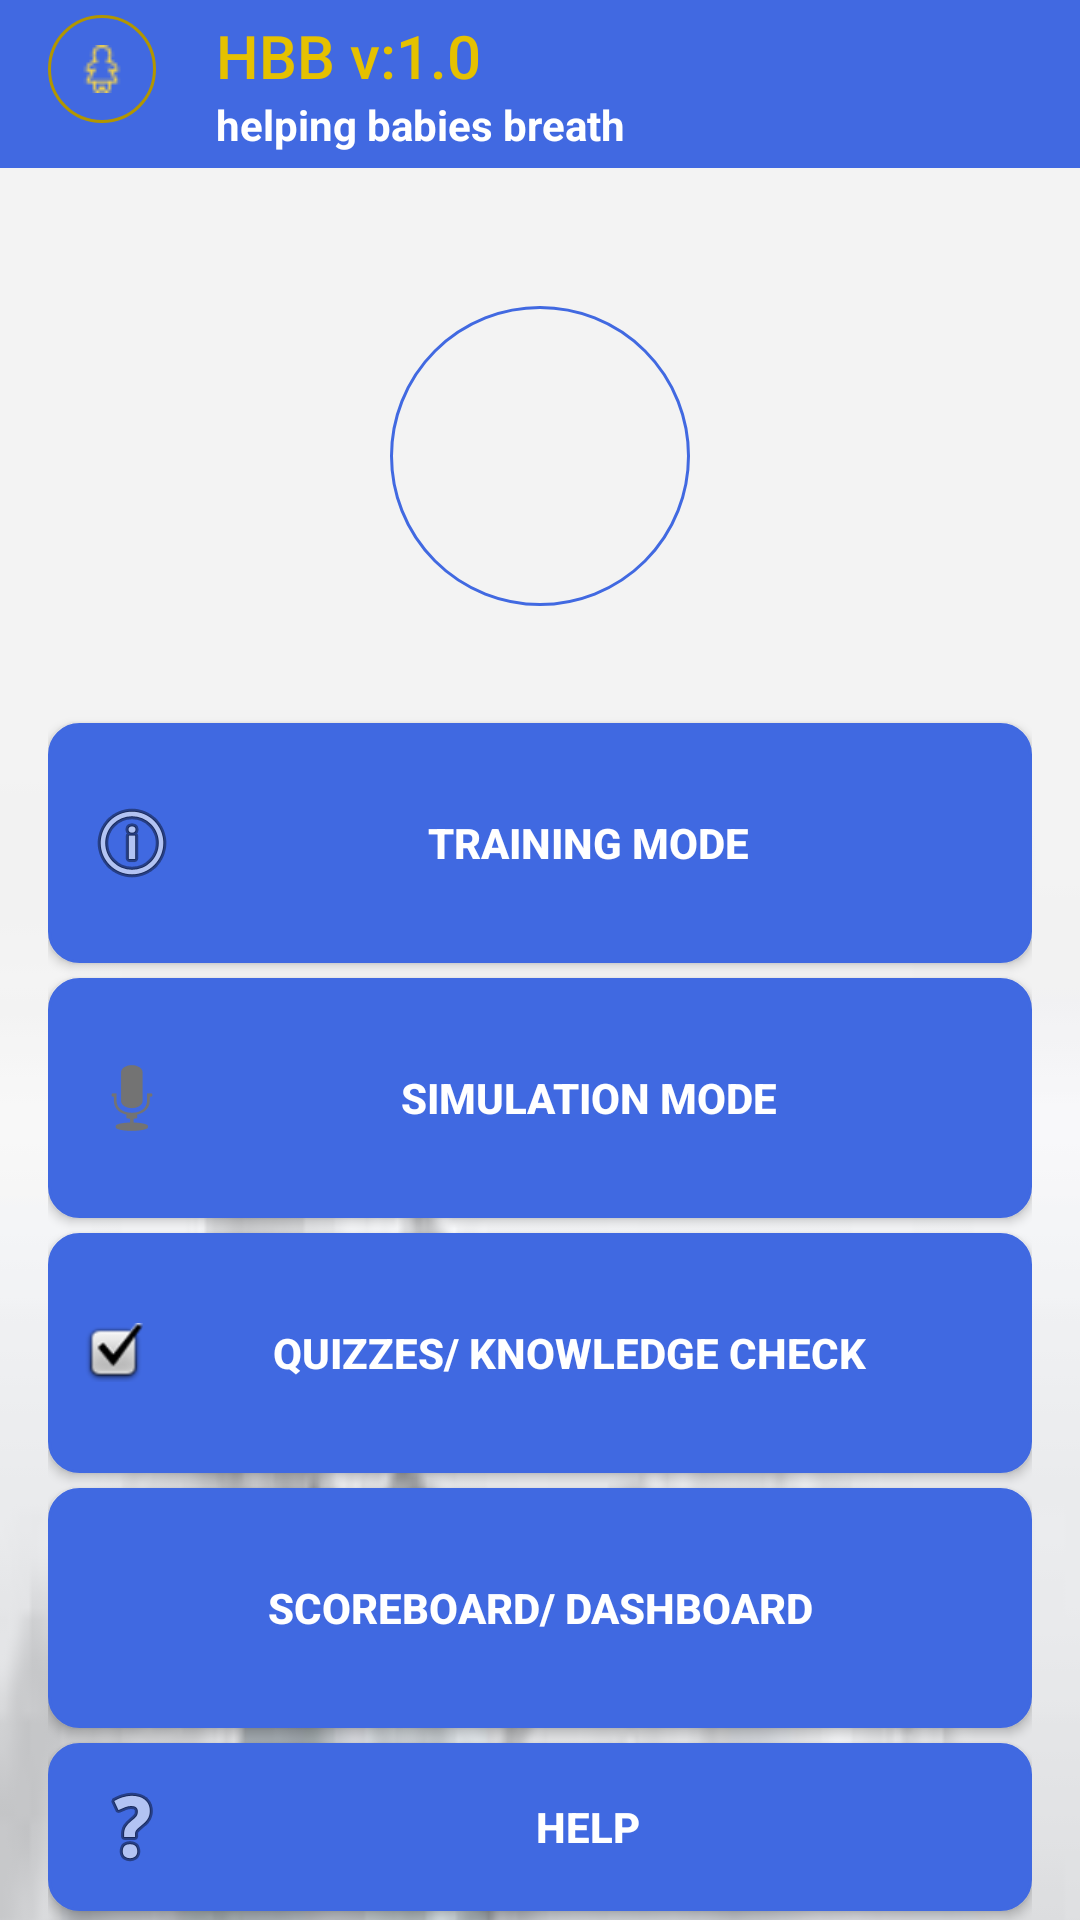

Screen size 1080px×1920px. Icon name, then its box in pixels as bbox=(x1, y1, x2, y2):
babe girl: bbox=(48, 15, 156, 123)
